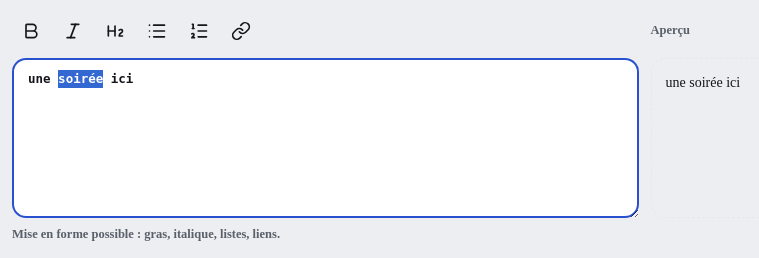
Test: the undo history › types only what changes, with the command of the browser, and keeps the selection of the result
The width and height of the screenshot is (759, 258).
Click the button named "Gras". click: [31, 31]
box: x1=12 y1=12 x2=50 y2=50
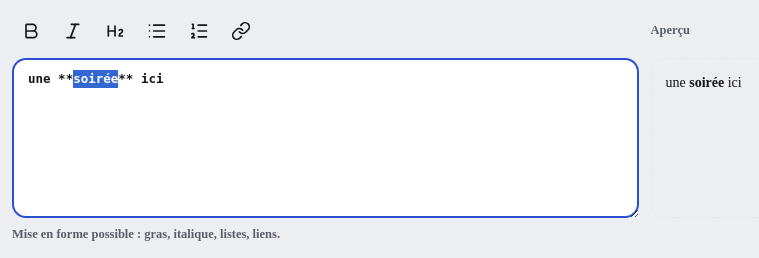
Expected: the text "soirée" is shown, x1=689 y1=75 x2=724 y2=90
Now the text box holds "une **soirée** ici", box x1=12 y1=58 x2=638 y2=218
